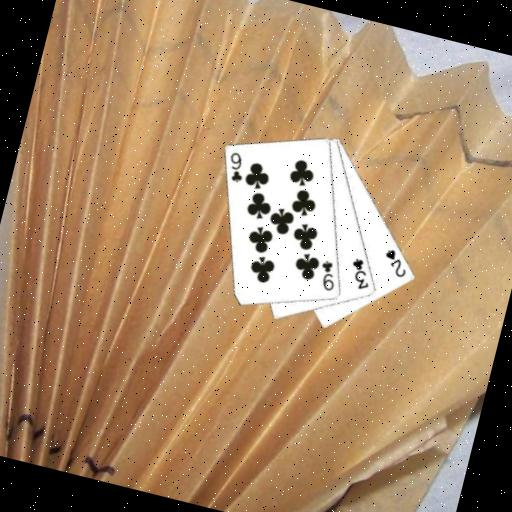2S: (378, 245, 413, 280)
3C: (344, 254, 377, 293)
9C: (313, 256, 342, 294), (222, 148, 251, 186)
